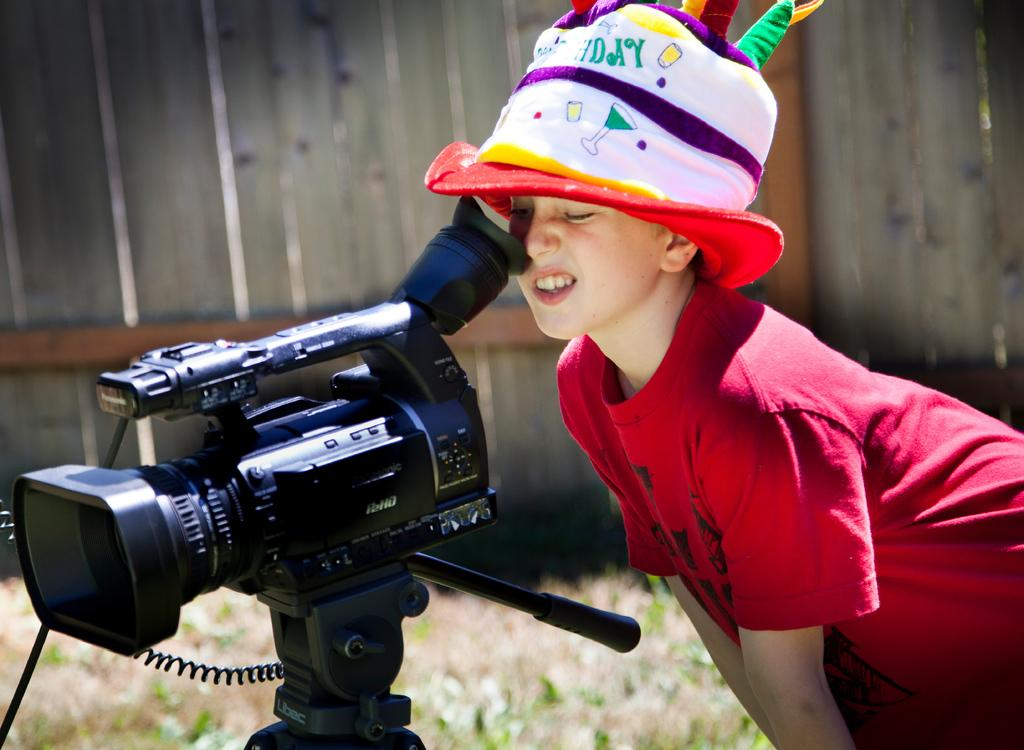Hat: (420, 0, 789, 287)
